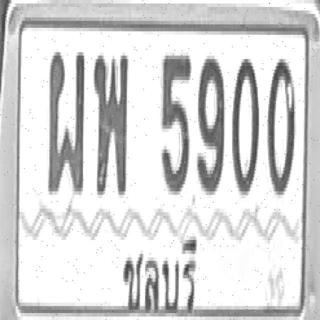A28: (42, 36, 88, 203)
A30: (88, 38, 130, 211)
N00: (264, 34, 302, 210), (230, 40, 262, 199)
N05: (157, 42, 194, 199)
N09: (196, 39, 230, 205)
P13: (110, 232, 214, 320)
